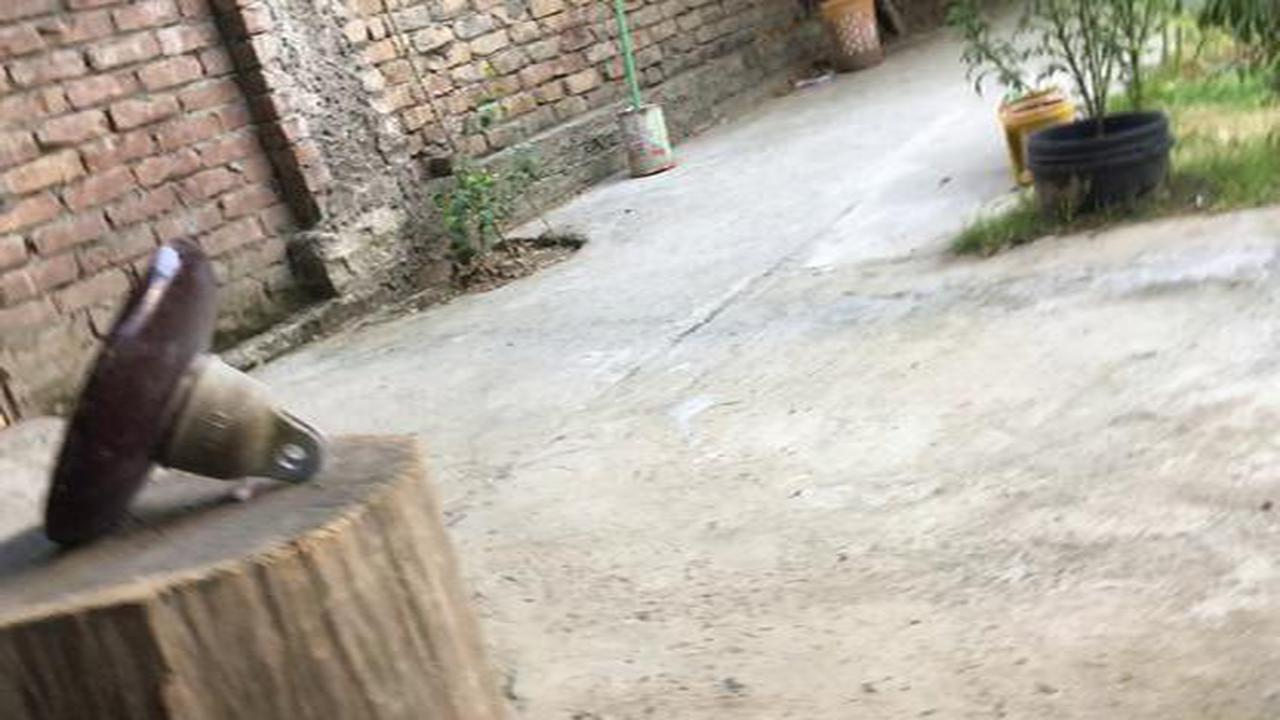insulator_disc: (40, 230, 328, 544)
